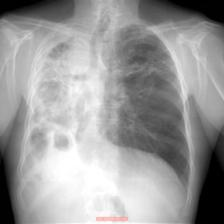tuberculosis: (7, 18, 196, 224)
